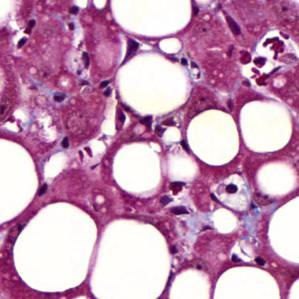steatosis: (114, 57, 196, 116), (240, 97, 294, 156), (187, 109, 240, 167)
